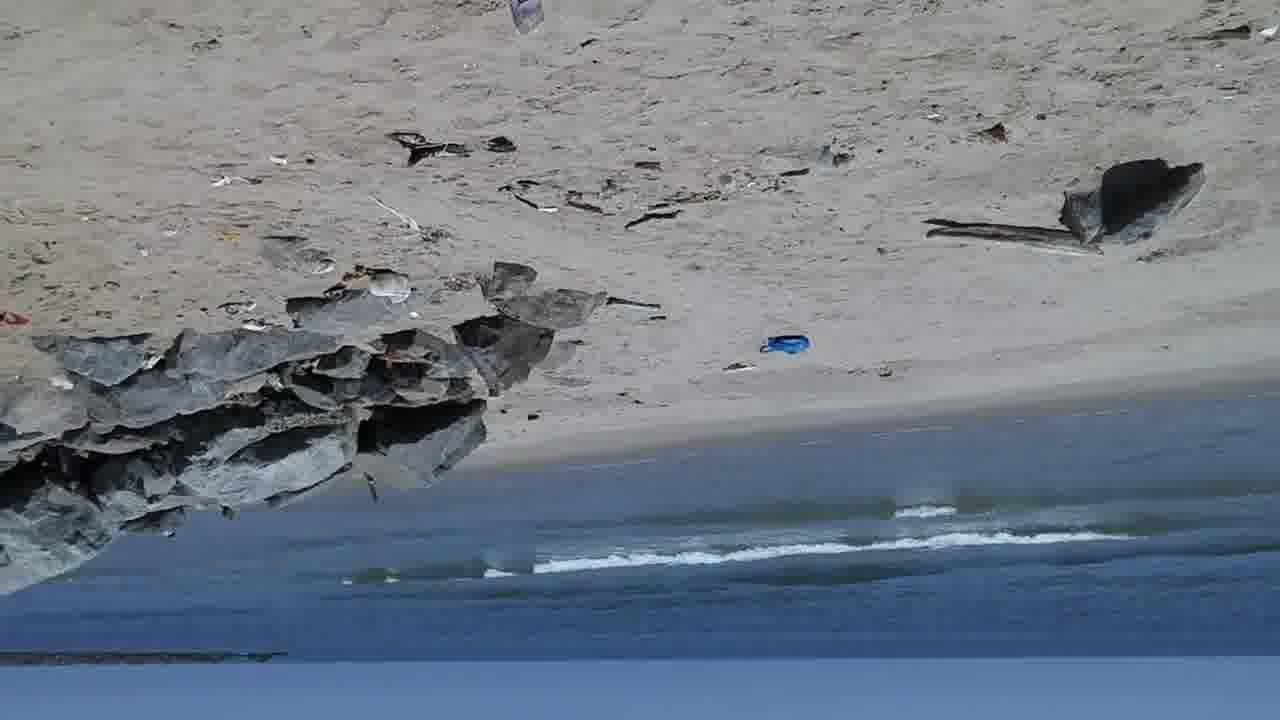large collection of objects: (1059, 163, 1206, 246), (507, 1, 547, 34), (218, 302, 256, 317)
obj: (921, 222, 1104, 255), (397, 127, 479, 169), (266, 240, 336, 276), (366, 273, 411, 304), (503, 179, 545, 210), (760, 332, 811, 356), (618, 210, 679, 230), (562, 193, 606, 214), (245, 320, 266, 332)
sand/background: (0, 257, 1280, 719)
